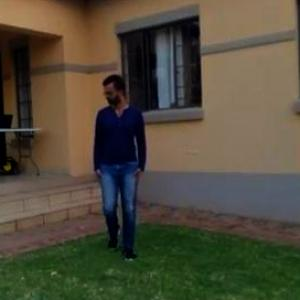follow: (88, 67, 145, 264)
